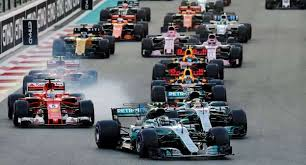FormulaOneCar: (97, 104, 236, 161), (7, 77, 94, 131), (149, 67, 234, 107), (24, 55, 102, 93), (52, 22, 120, 61), (176, 32, 245, 67), (158, 46, 227, 80), (140, 24, 196, 58), (103, 13, 151, 42)
